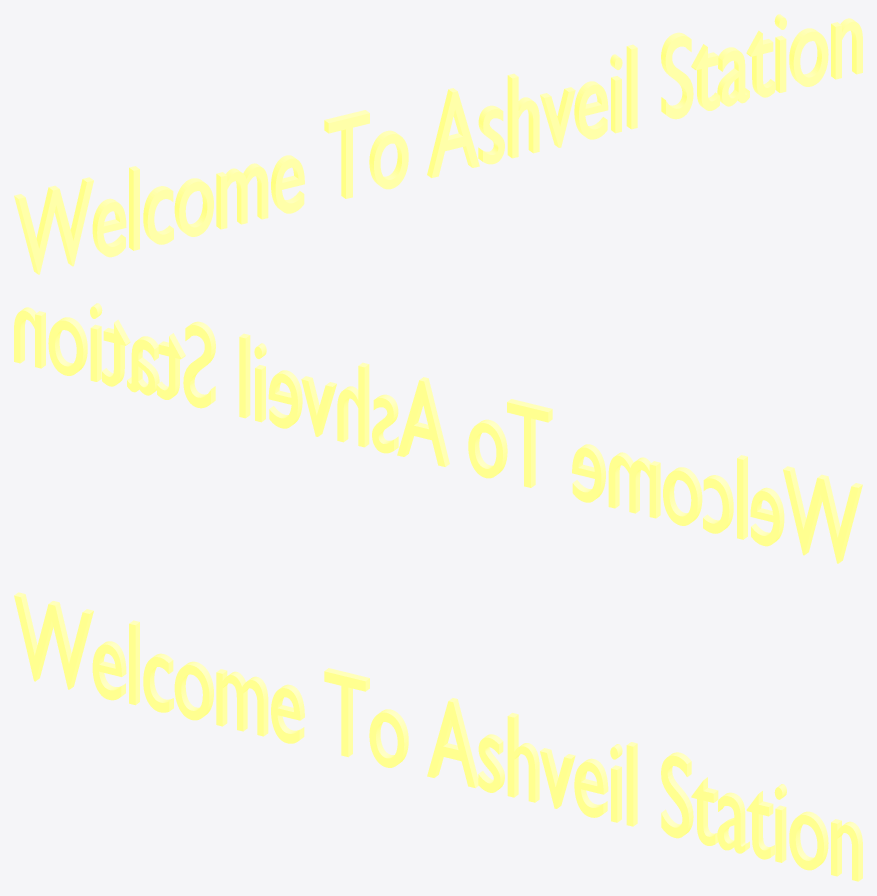
Rendered from NeonWelcomeSign.fbx.
The picture shows the model from 3 angles, top to bottom: view 1: azimuth 30°, elevation 25°; view 2: azimuth 150°, elevation 25°; view 3: azimuth 330°, elevation 25°; orthographic projection.
Parts seen in each view (by area): view 1: Text.001; view 2: Text.001; view 3: Text.001.
Boxes of the visible parts, <box> form: Text.001: <box>14,14,862,274</box>; Text.001: <box>14,303,862,563</box>; Text.001: <box>14,592,862,881</box>.
Bounding box in the file's own units: 753 × 70 × 7.
